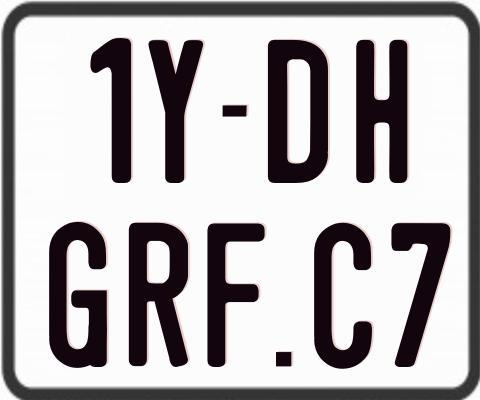1: (89, 37, 135, 185)
7: (391, 222, 450, 368)
C: (314, 222, 374, 374)
D: (267, 38, 332, 186)
F: (206, 220, 266, 366)
G: (49, 222, 109, 372)
H: (354, 38, 405, 181)
R: (128, 220, 189, 364)
Y: (146, 37, 205, 182)
